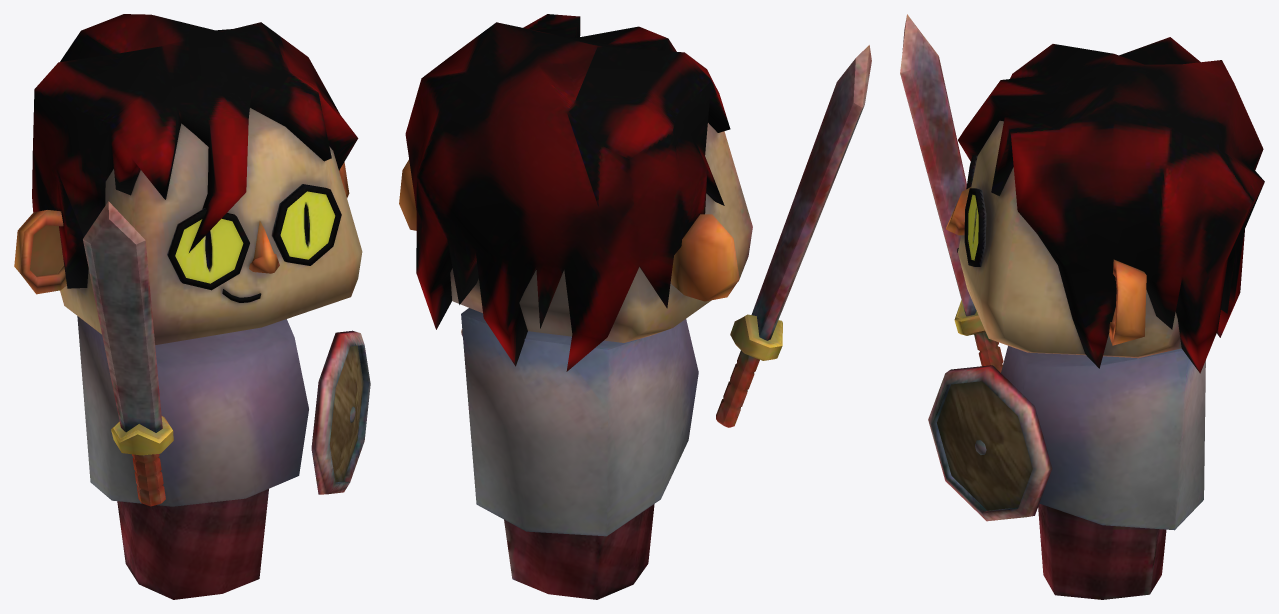
File: Avatar.fbx
3 renders of one model, left to right at view 1: azimuth 30°, elevation 25°; view 2: azimuth 150°, elevation 25°; view 3: azimuth 270°, elevation 25°, orthographic. The views are drawn at different scales.
Visible parts, largest first — view 1: Head, Body, Sword, Shield; view 2: Head, Body, Sword; view 3: Head, Body, Shield, Sword.
Boxes of the visible parts, left/top/right/bottom form: Head: left=14, top=14, right=362, bottom=344; Body: left=77, top=316, right=308, bottom=599; Sword: left=83, top=201, right=173, bottom=506; Shield: left=311, top=330, right=370, bottom=494; Head: left=399, top=14, right=752, bottom=371; Body: left=461, top=308, right=698, bottom=599; Sword: left=716, top=45, right=871, bottom=427; Head: left=946, top=37, right=1264, bottom=373; Body: left=1001, top=346, right=1205, bottom=599; Shield: left=928, top=365, right=1052, bottom=521; Sword: left=900, top=14, right=1003, bottom=372.
Size of the model in its own units: 1.67 by 2.35 by 1.52.
Materials: 1 (1 with a texture image).
